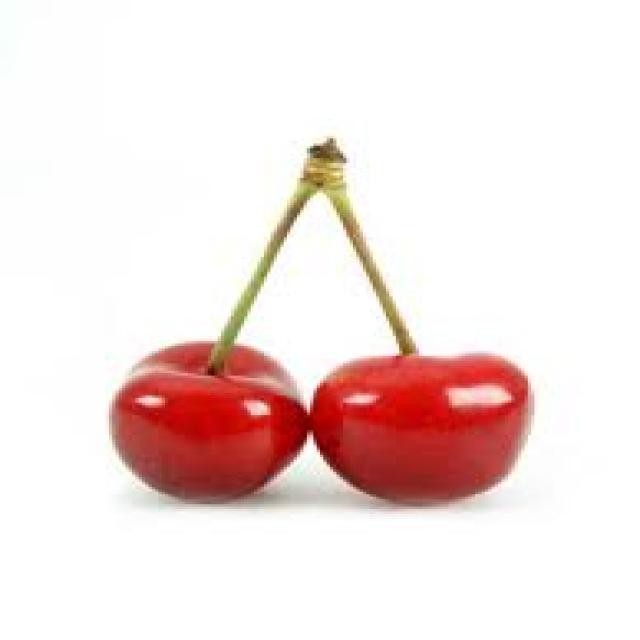Cherry: (72, 119, 560, 538)
